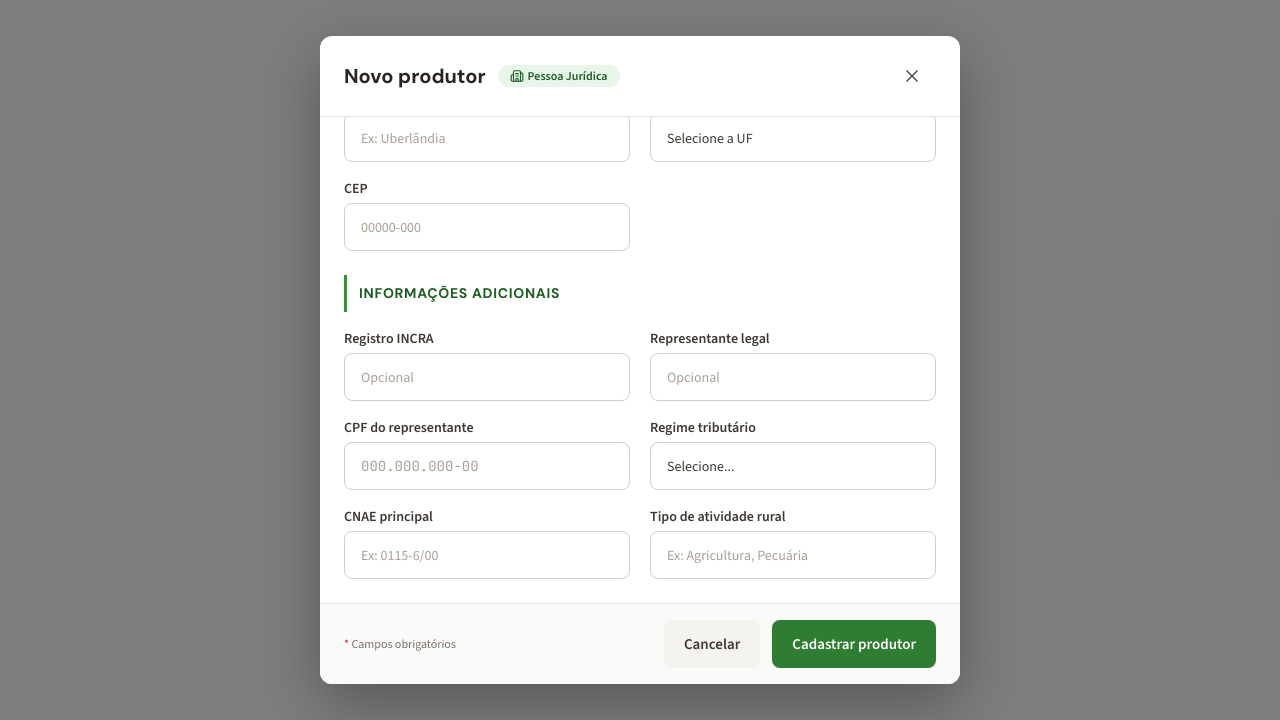
Scenario: ProducerPJFormModal › should validate optional legal rep CPF if partially filled
This screenshot has width=1280, height=720.
(page scrolled)
In the field labelled "CPF do representante": (487, 466) [344, 442, 630, 490], type "123"
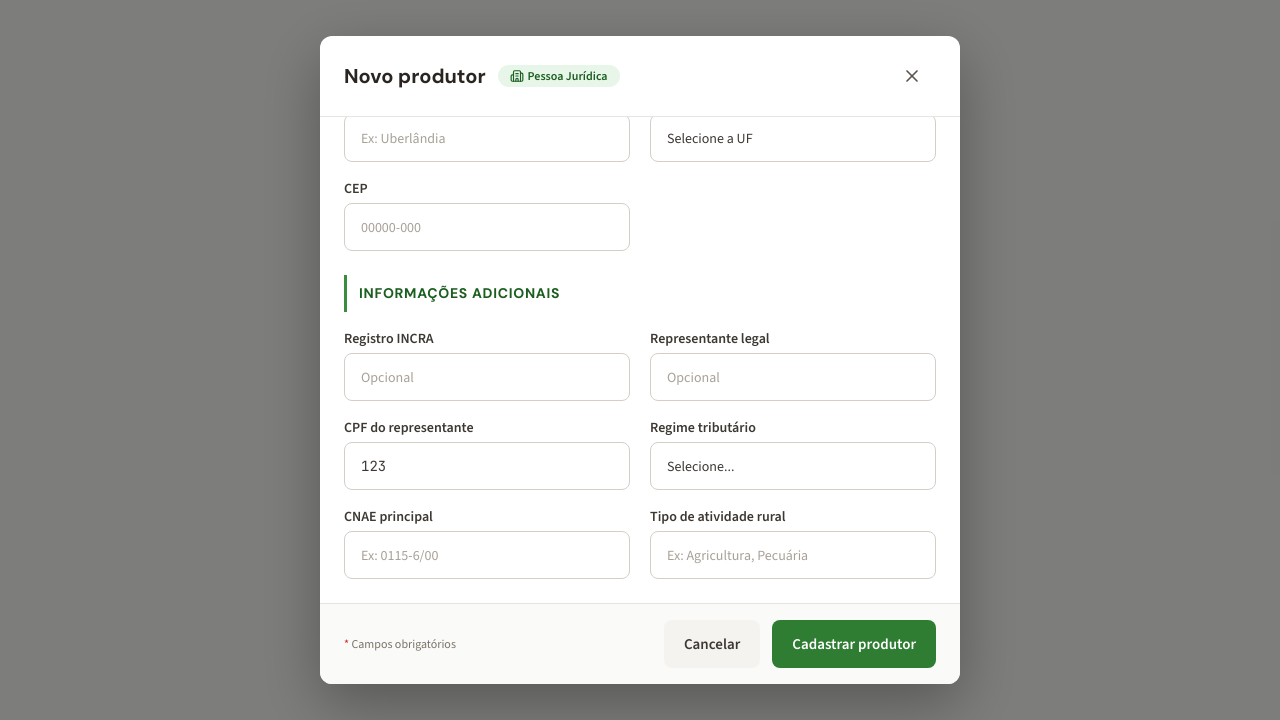
Leave the field labelled "CPF do representante", box [344, 442, 630, 490]
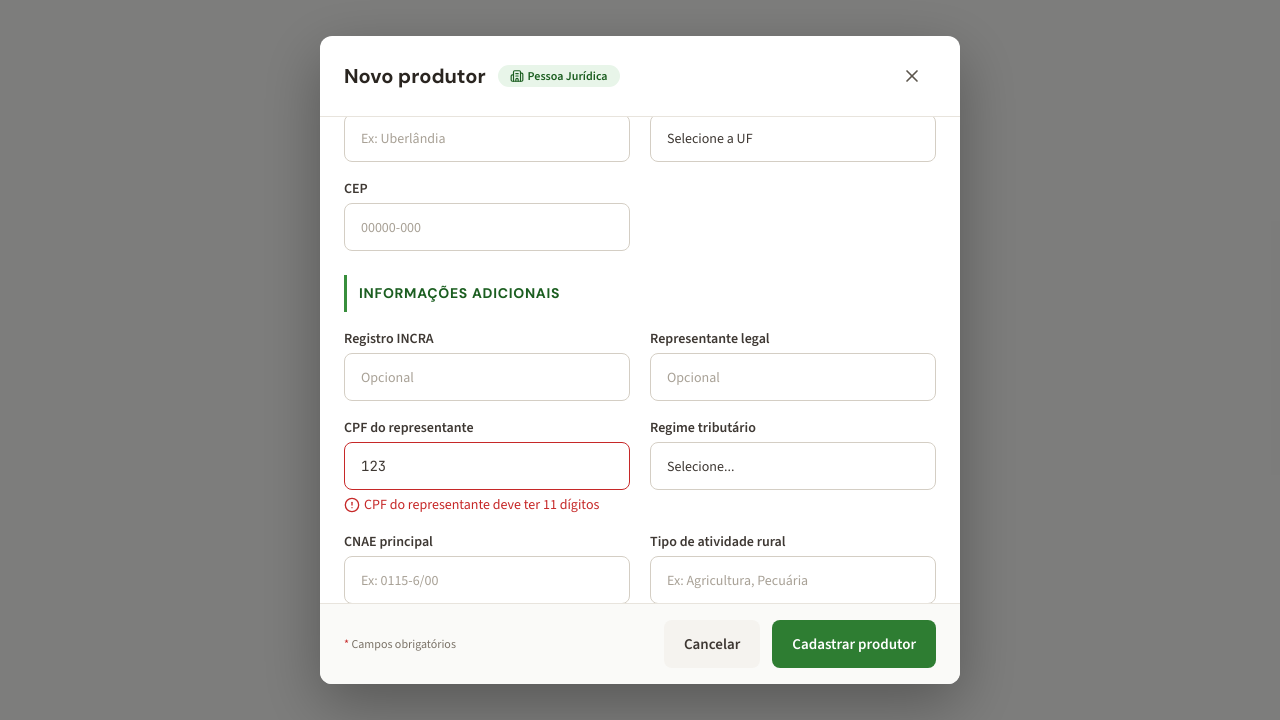
Expected: the text "CPF do representante deve ter 11 dígitos" is shown, [344, 494, 630, 515]
